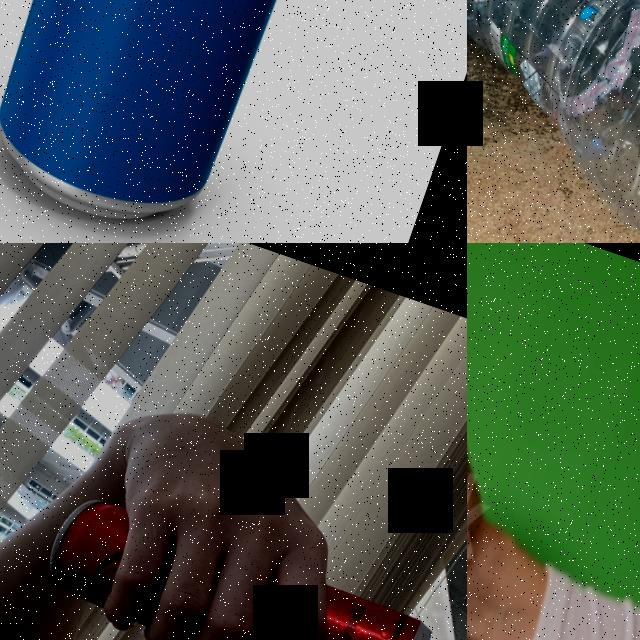bottle: (467, 0, 640, 243)
can: (0, 0, 342, 243), (29, 487, 441, 640)
